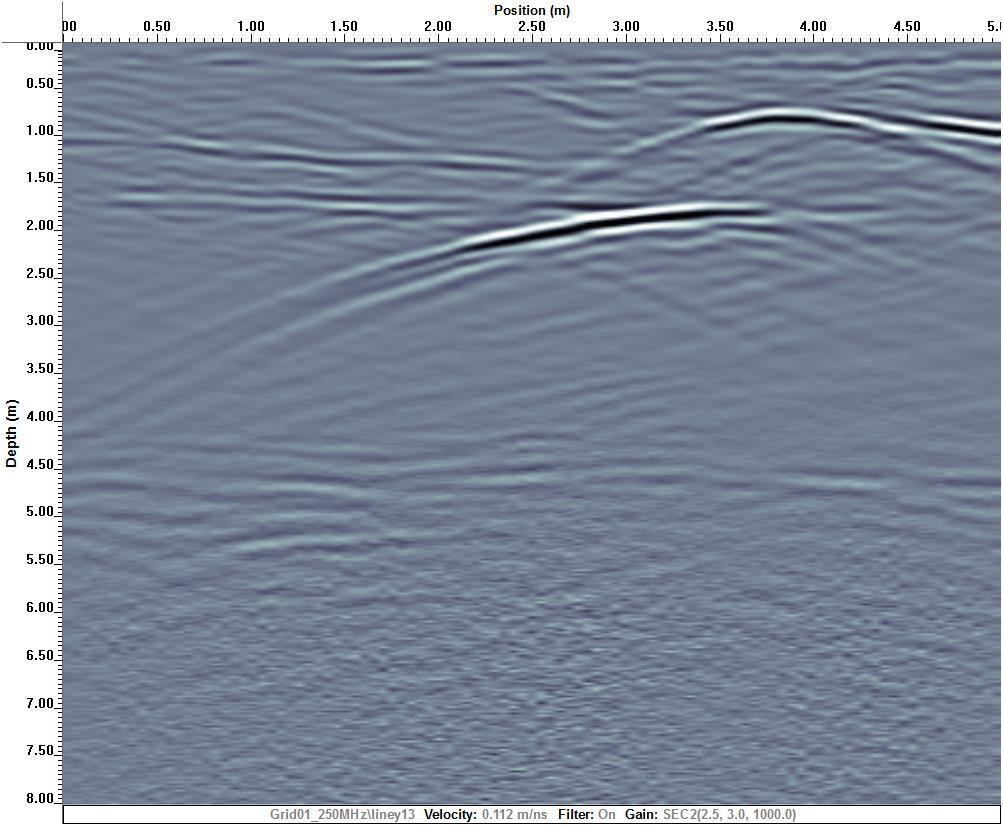hyperbola: (493, 105, 1003, 183)
